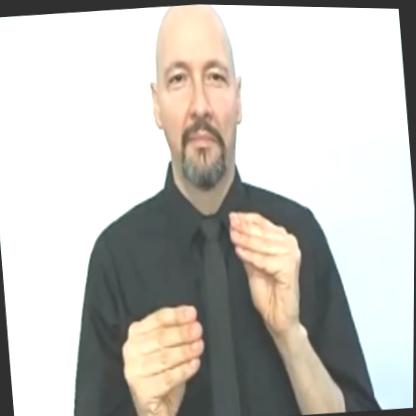Fix: (94, 193, 326, 416)
